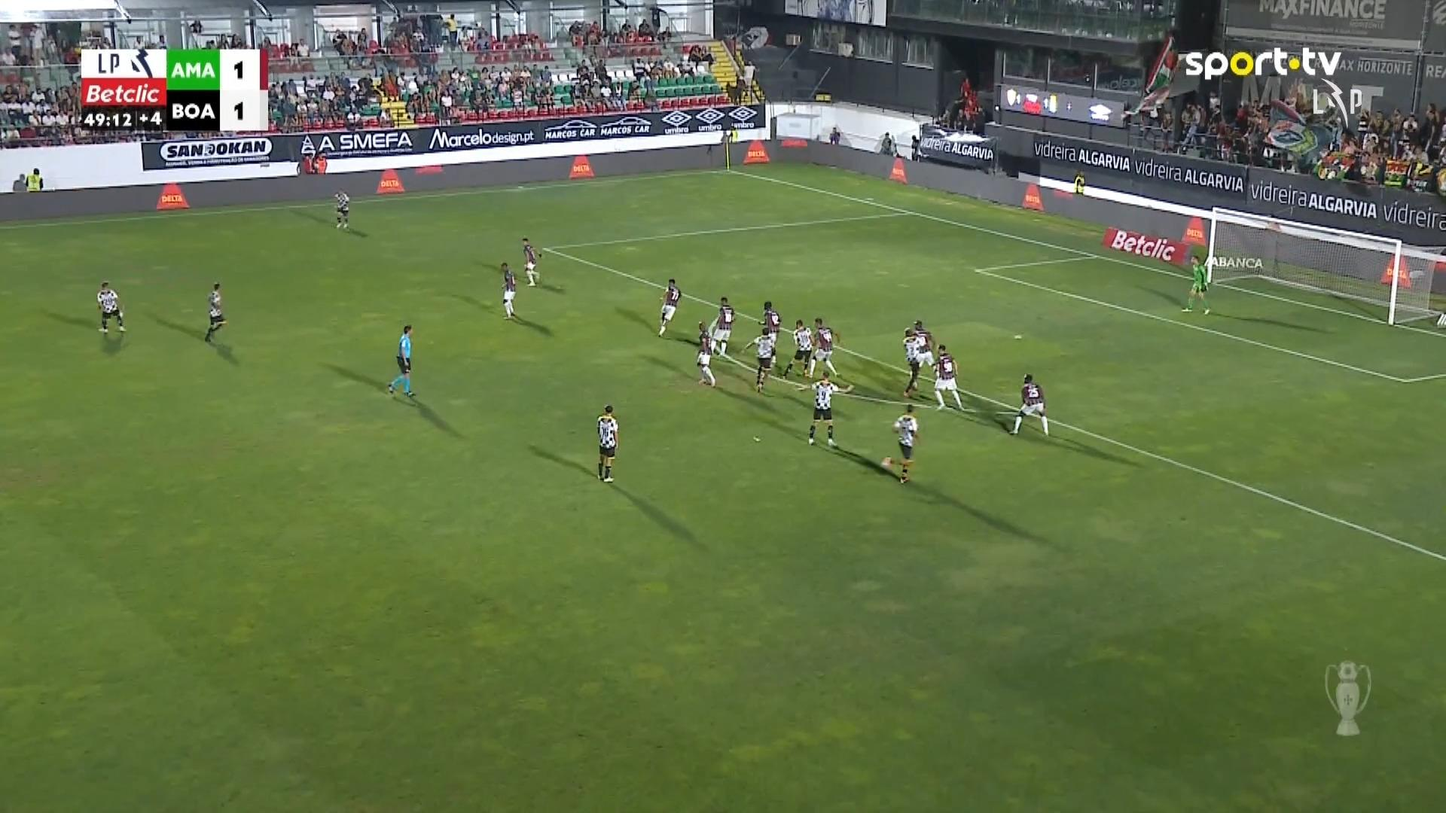goalkeeper: (1181, 254, 1211, 315)
player: (798, 372, 854, 447), (901, 319, 935, 397), (1008, 373, 1049, 437), (740, 327, 777, 393), (891, 403, 919, 483), (931, 343, 963, 411), (809, 315, 841, 377), (595, 403, 619, 483), (781, 318, 813, 378), (709, 296, 735, 357), (96, 280, 126, 332), (657, 278, 681, 336), (694, 320, 715, 386), (204, 282, 227, 342), (758, 300, 782, 348), (520, 236, 542, 286), (499, 261, 517, 319), (333, 188, 350, 229)
referee: (386, 324, 416, 397)
